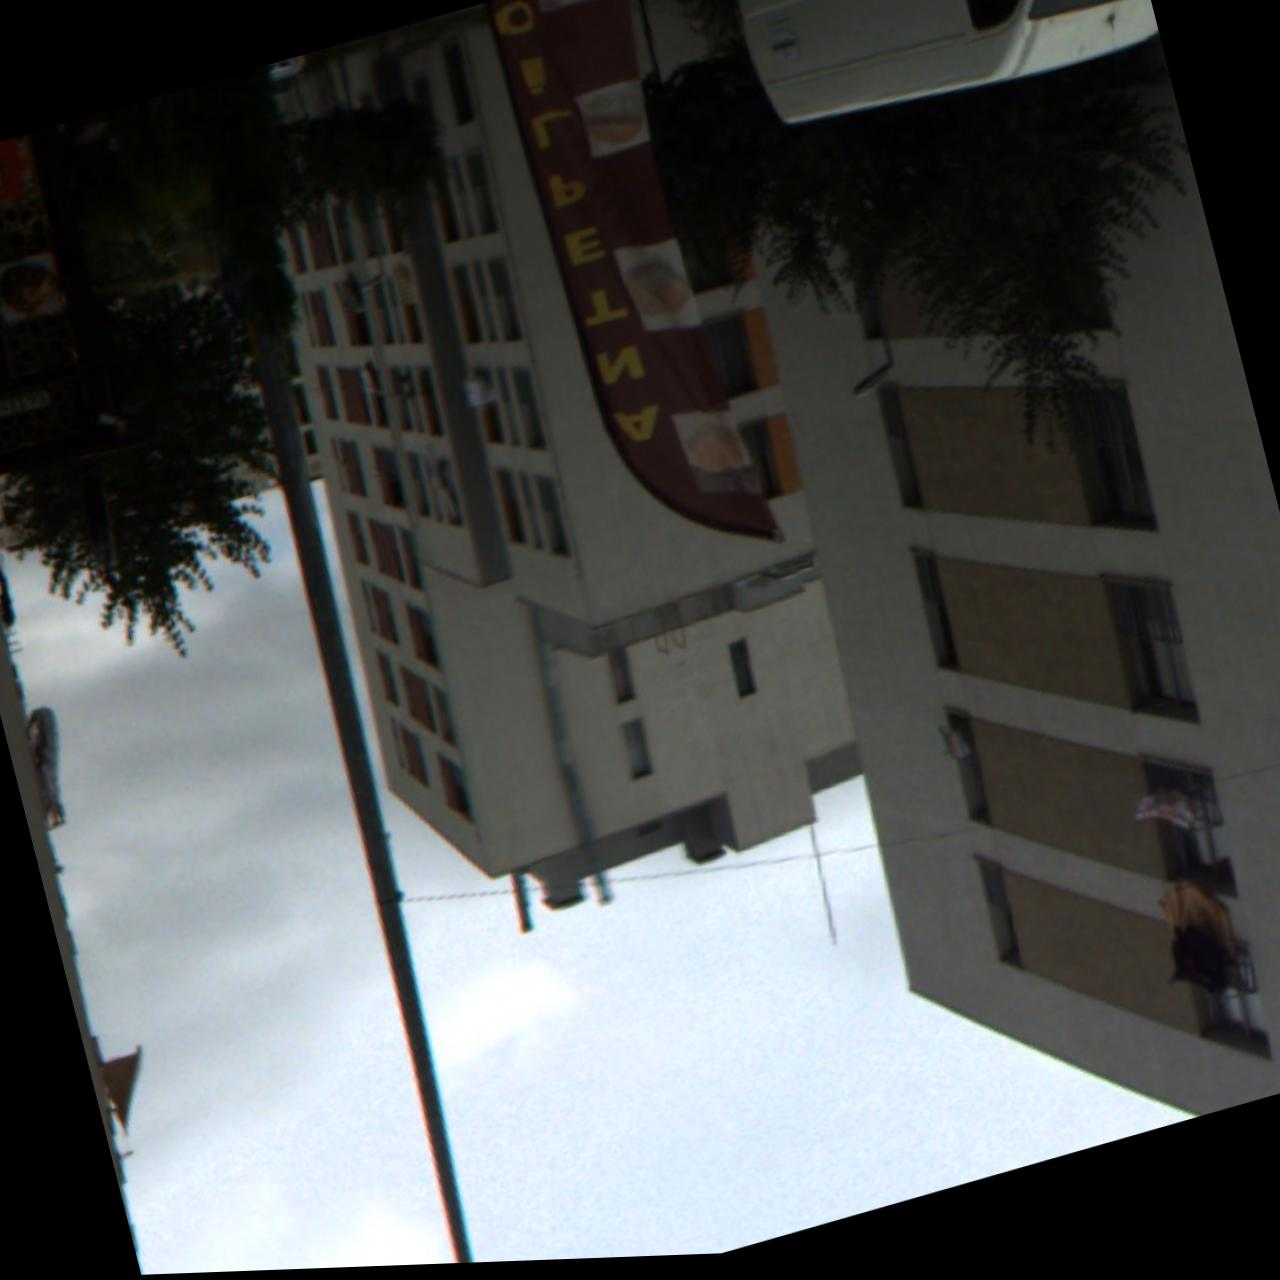SignStore: (0, 368, 93, 456)
